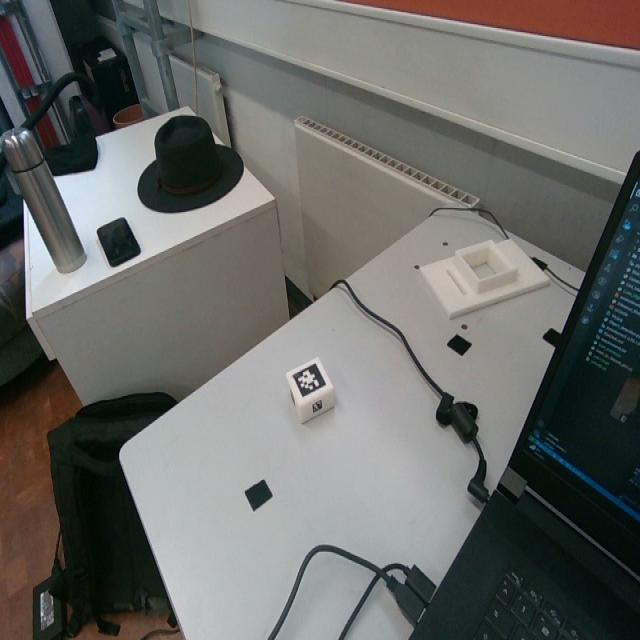Cube: (285, 355, 336, 428)
